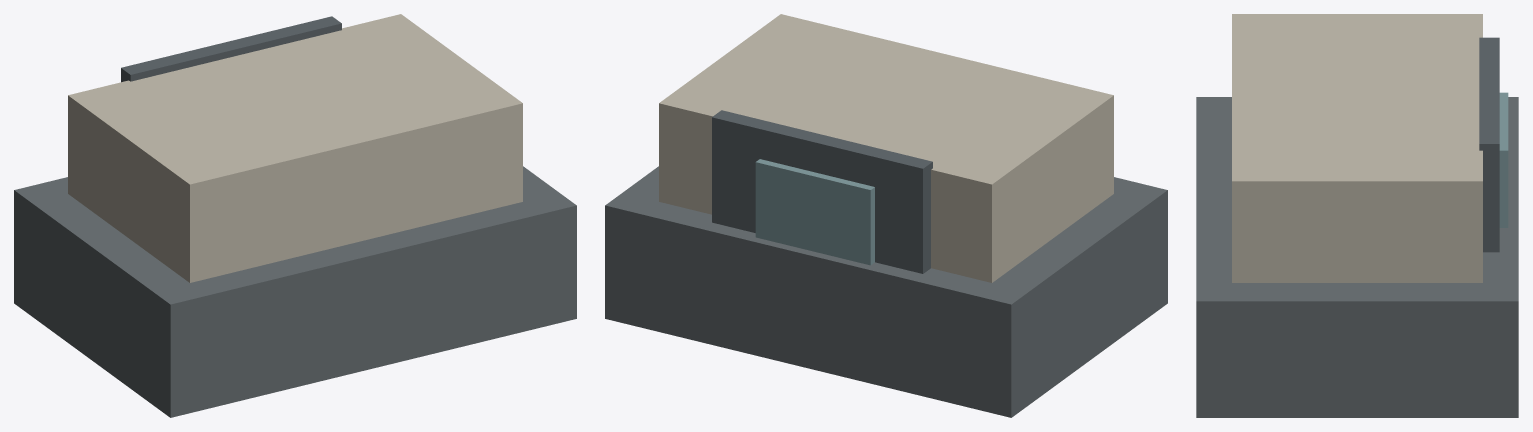
File: iz3_environment_planter_01.glb
3 views of the same model, side by side, from view 1: azimuth 30°, elevation 25°; view 2: azimuth 150°, elevation 25°; view 3: azimuth 270°, elevation 25° (orthographic). The views are drawn at different scales.
Visible parts, largest first — view 1: cabinet, base, panel; view 2: base, cabinet, panel, display; view 3: cabinet, base, panel, display.
Part boxes in pixels (box(x1,y1,x2,y2)): cabinet: box(68, 14, 522, 282); base: box(14, 166, 576, 417); panel: box(121, 16, 341, 82); base: box(605, 166, 1167, 417); cabinet: box(659, 14, 1113, 282); panel: box(712, 110, 932, 273); display: box(755, 159, 874, 265); cabinet: box(1232, 14, 1482, 282); base: box(1196, 97, 1518, 417); panel: box(1479, 37, 1499, 252); display: box(1499, 92, 1508, 227).
Bounding box in the file's own units: 1.2 × 0.617 × 0.8.
